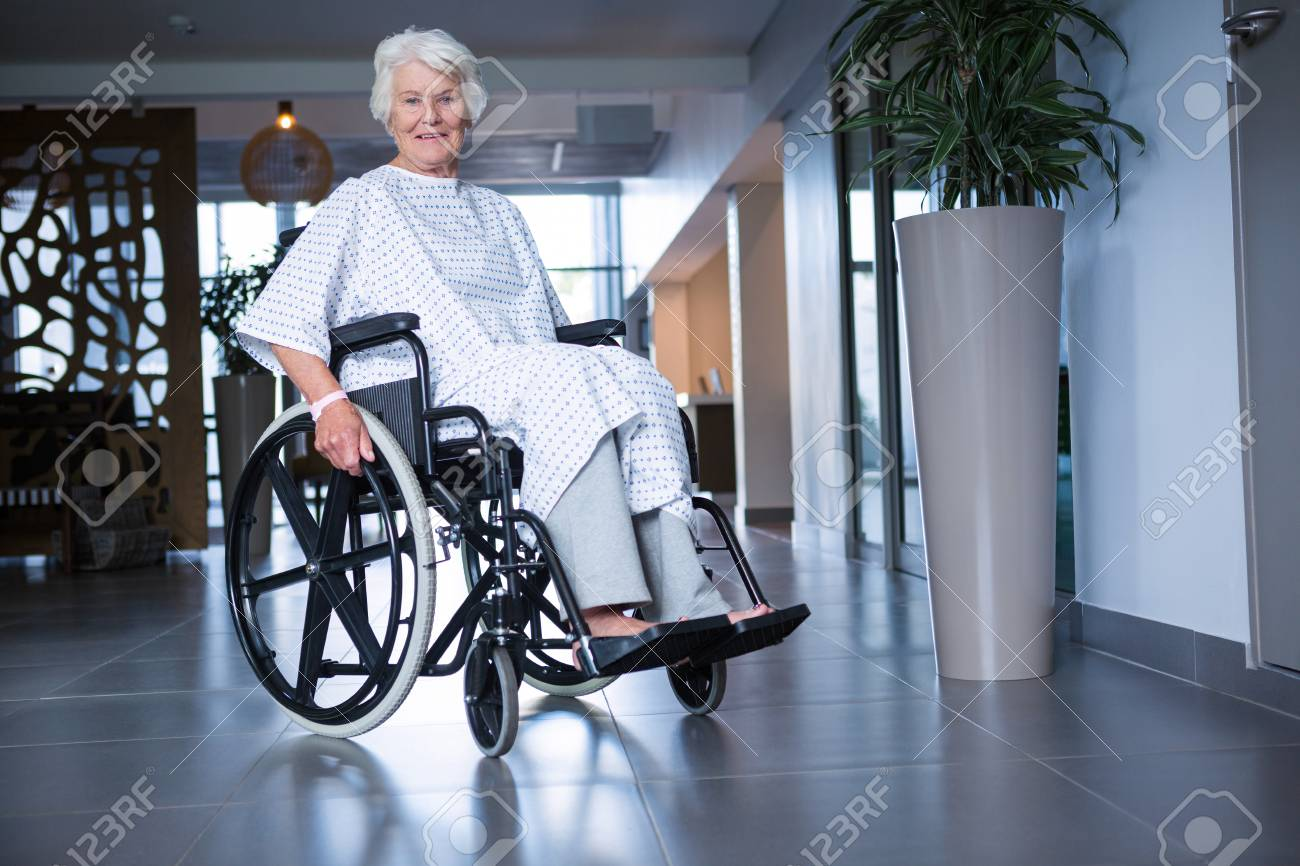wheelchair: (223, 24, 811, 757)
